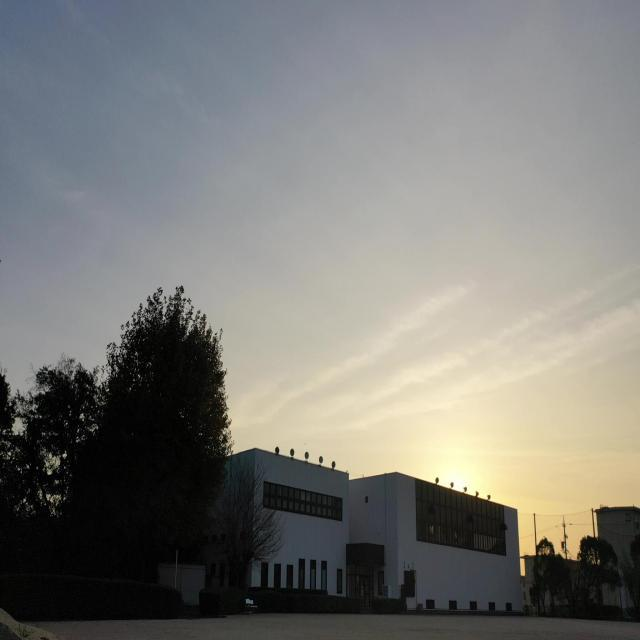Birds: (302, 440, 308, 448)
